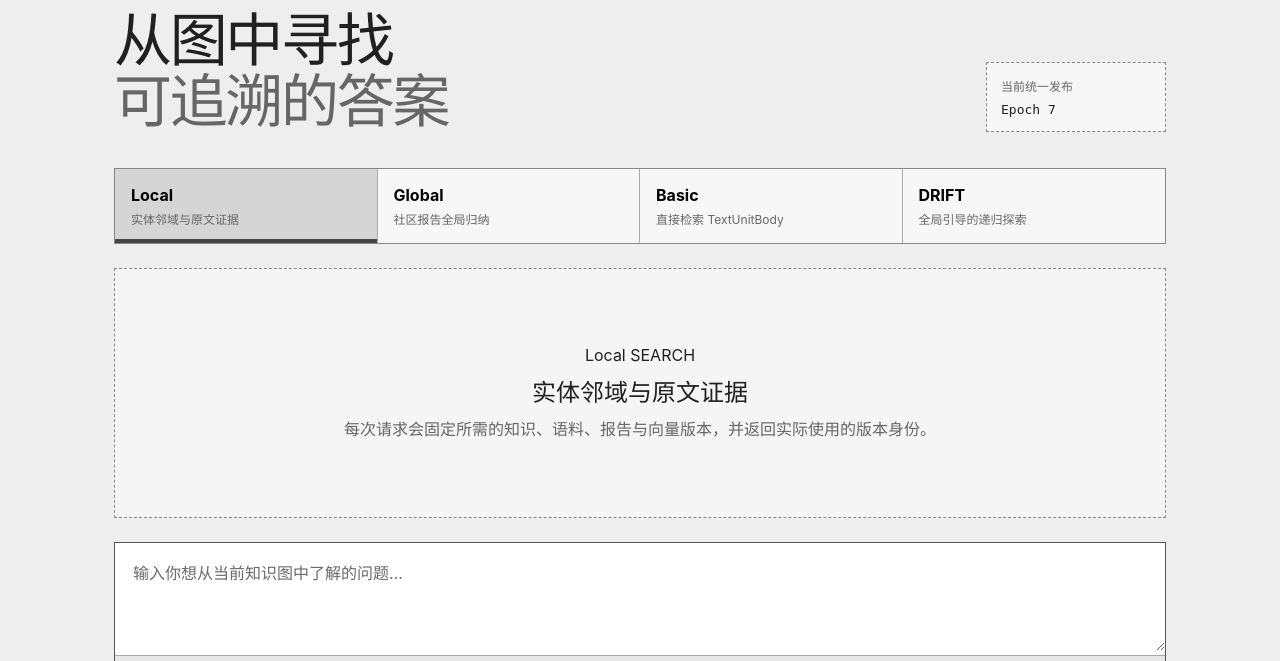
Test: SearchPage wireframe › retains partial stream output and identifies an error terminal as interrupted
Step 1. Type "部分失败" into the text box with placeholder "输入你想从当前知识图中了解的问题…" → [640, 597], box [115,543,1165,651]
(page scrolled)
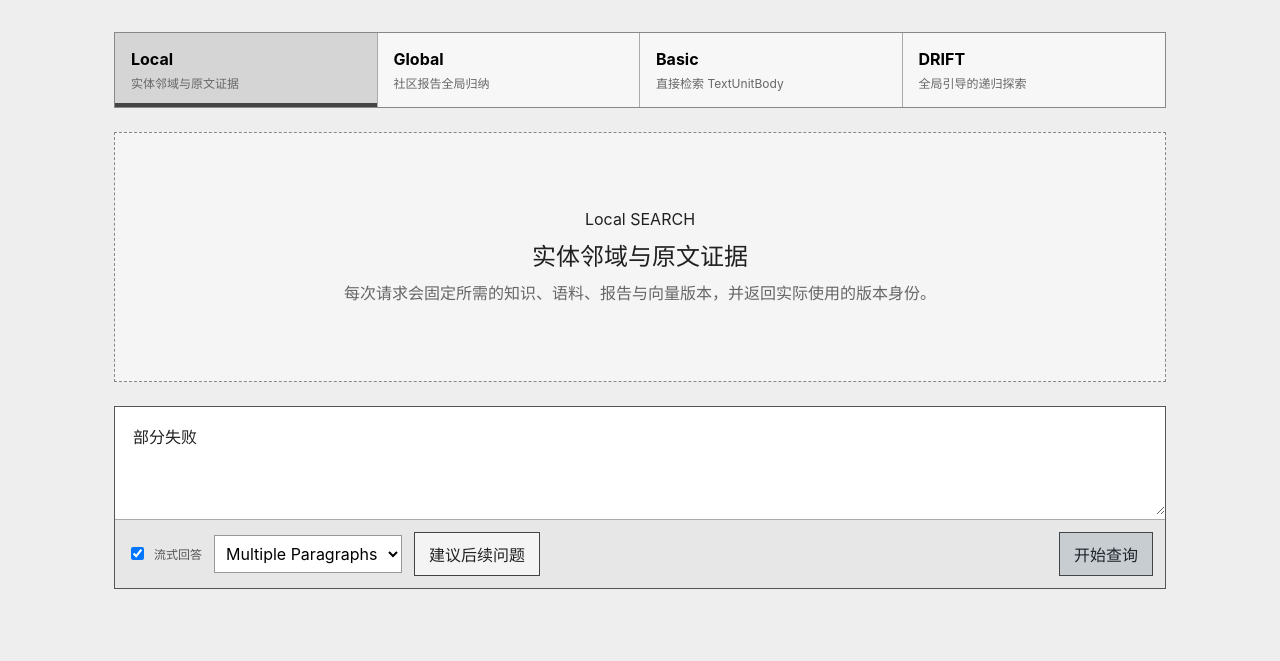
Step 2. Submit the form, box [114,406,1166,589]
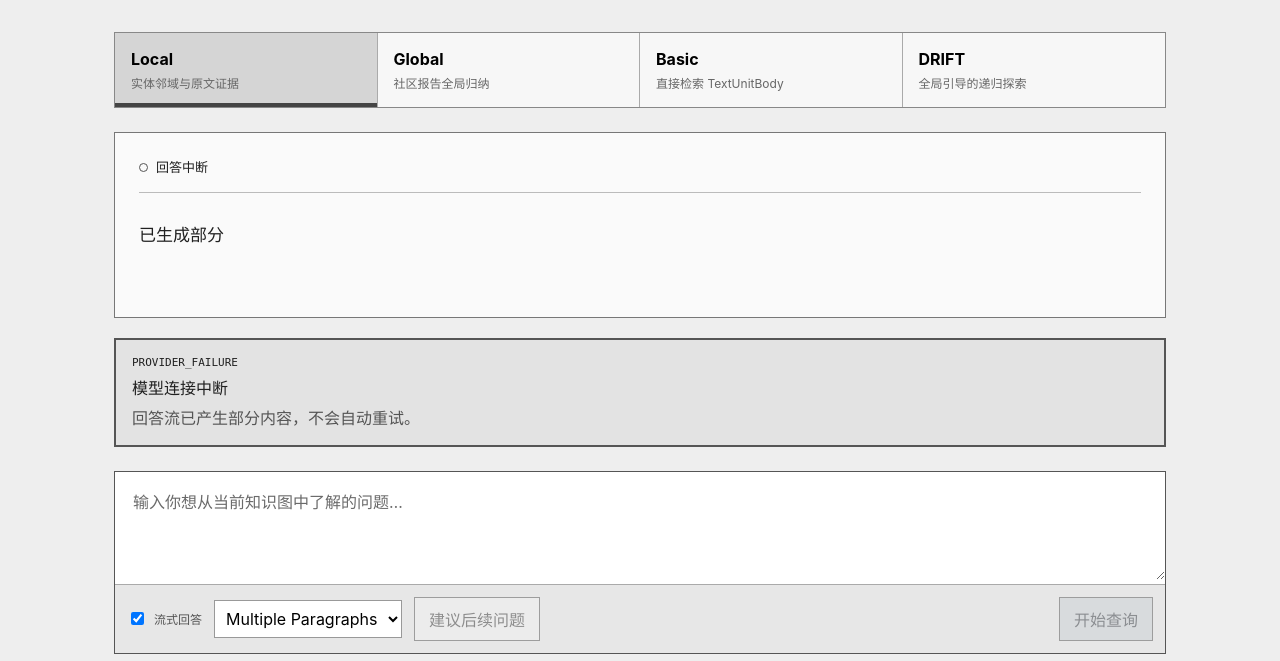
Result: the text with class "answer-copy" reads "已生成部分" at [139,225,224,245]
Result: the element with class "answer-heading" reads "回答中断" at [156,159,208,175]
Result: the message with class "failure-card" shows "模型连接中断" at [132,378,228,398]
